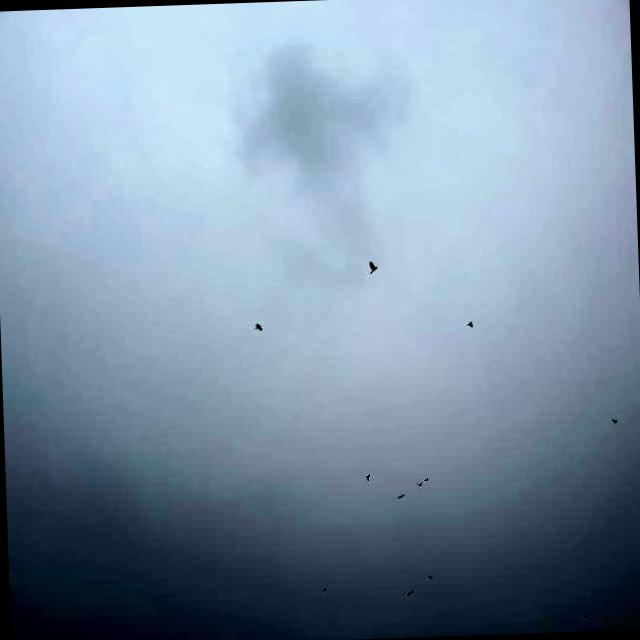bird: (363, 252, 382, 282), (249, 319, 266, 344), (464, 319, 480, 338)
